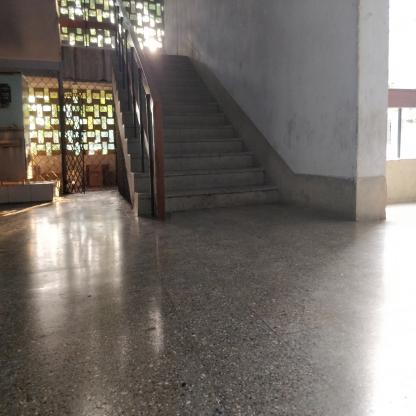stairs: (167, 147, 241, 222)
